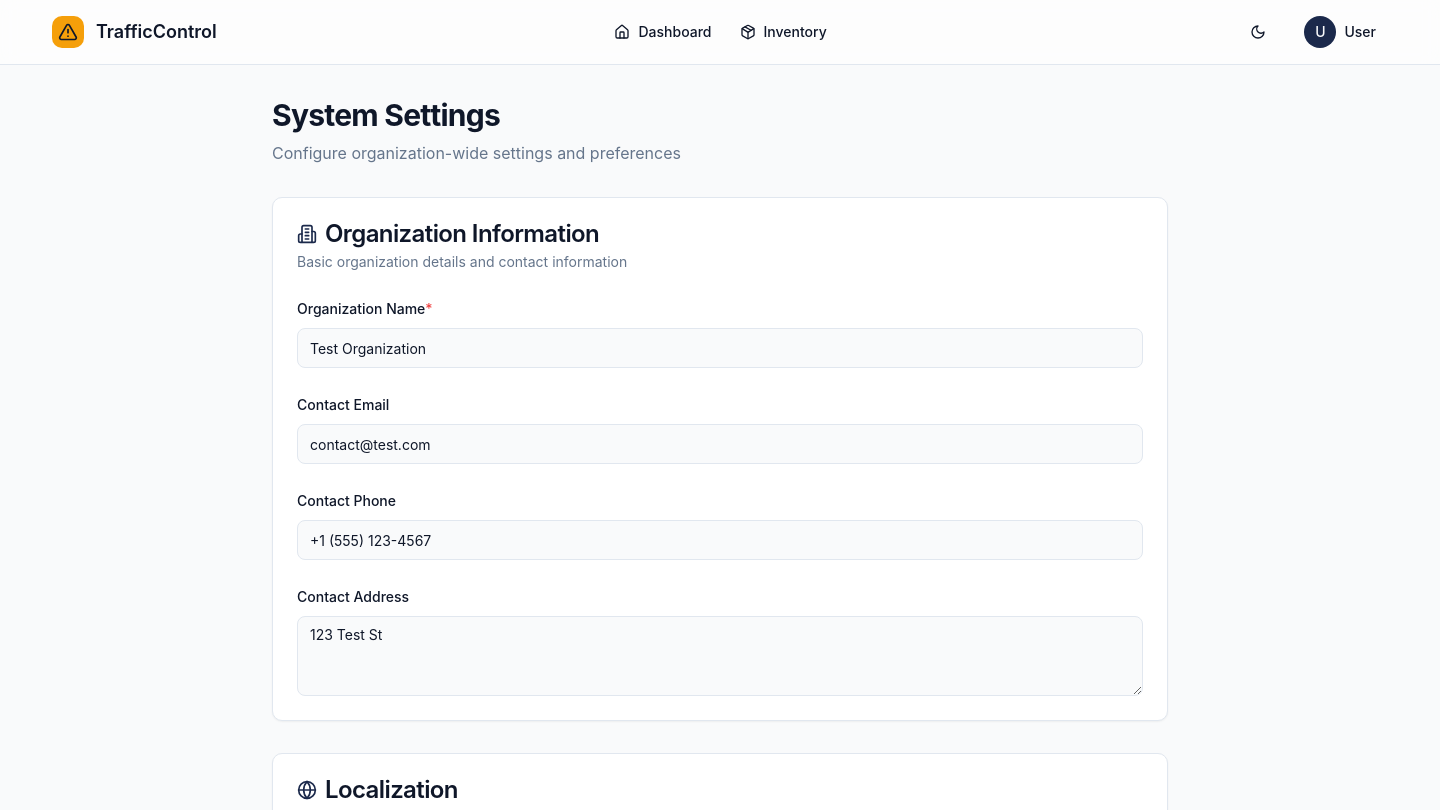
Test: AdminSettings › should reset form when reset button is clicked
Replace the text in the field labelled "Organization Name*" with "Changed Name" at (720, 348), box [297, 328, 1143, 368]
(page scrolled)
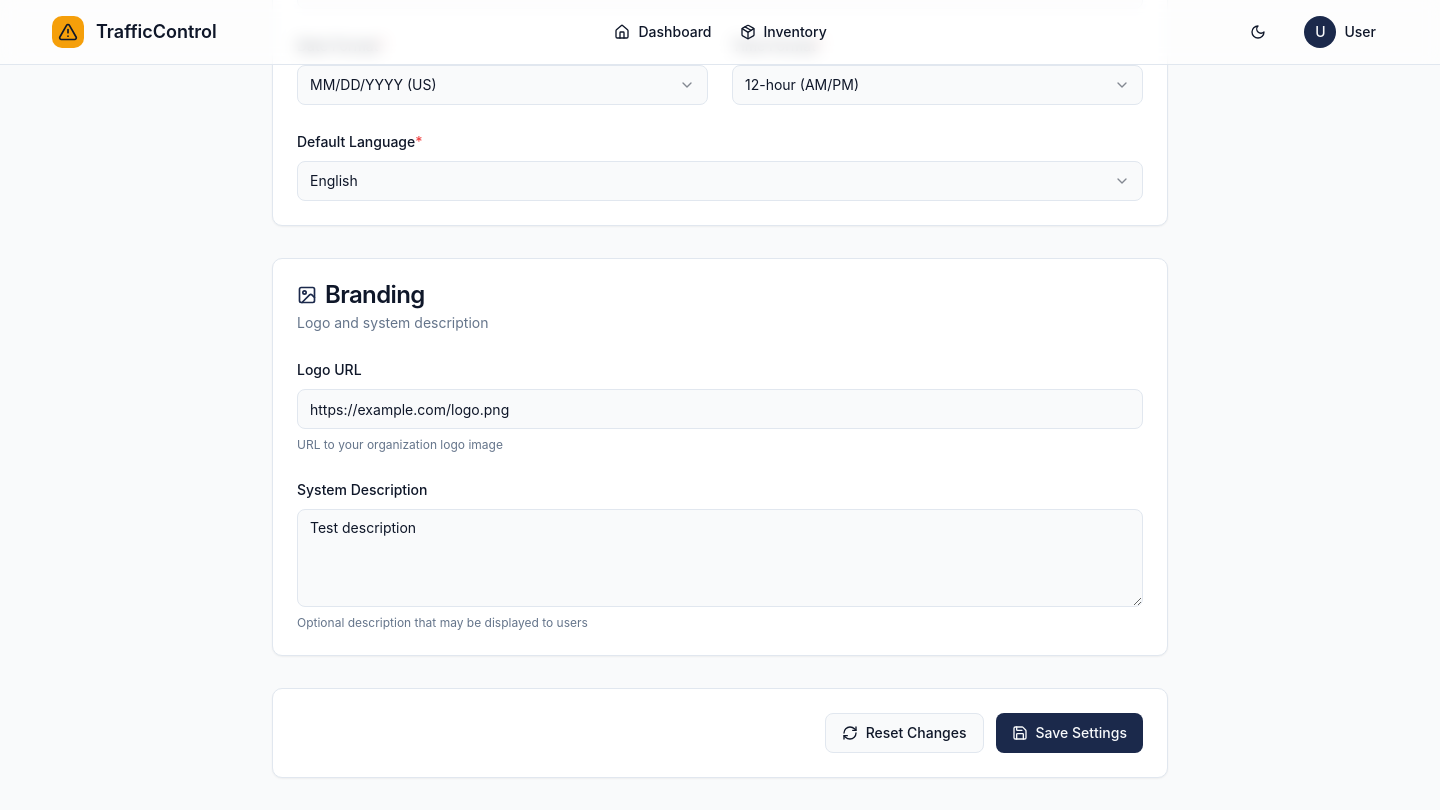
Click the button "Reset Changes" at (904, 733), box [825, 713, 984, 753]
(page scrolled)
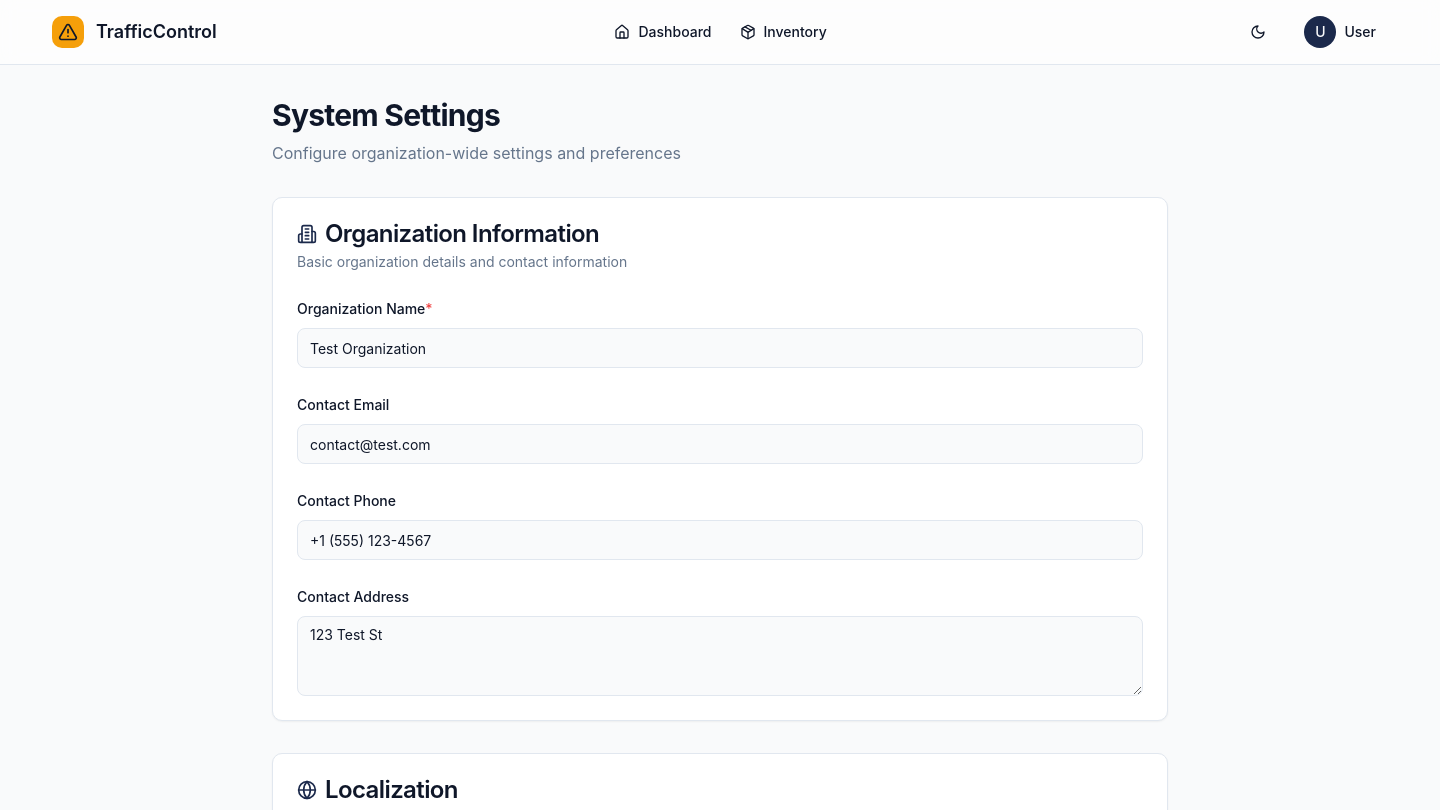
Now the field labelled "Organization Name*" holds "Test Organization", box [297, 328, 1143, 368]
